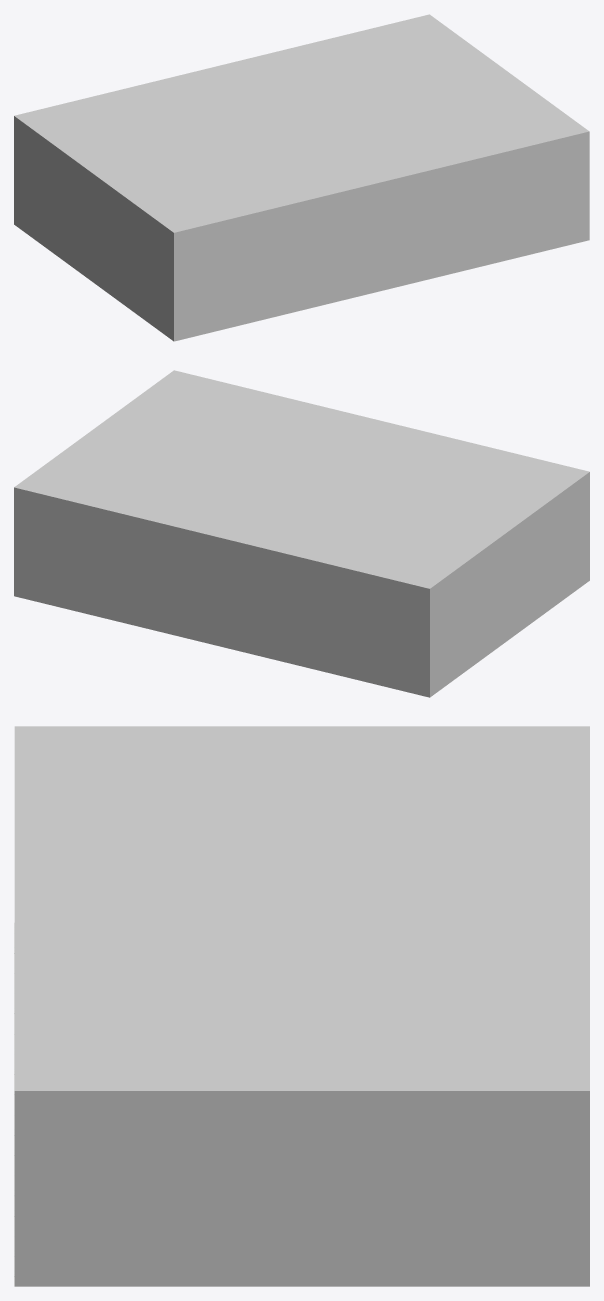
Rendered from room.FBX.
3 views of the same model, one above another, from view 1: azimuth 30°, elevation 25°; view 2: azimuth 150°, elevation 25°; view 3: azimuth 270°, elevation 25° (orthographic). The views are drawn at different scales.
Parts seen in each view (by area): view 1: Box001; view 2: Box001; view 3: Box001.
Boxes of the visible parts, left/top/right/bottom form: Box001: left=14, top=14, right=589, bottom=341; Box001: left=14, top=370, right=589, bottom=697; Box001: left=14, top=726, right=589, bottom=1286.
Bounding box in the file's own units: 1801 × 450 × 1201.
Materials: 1 (1 with a texture image).
